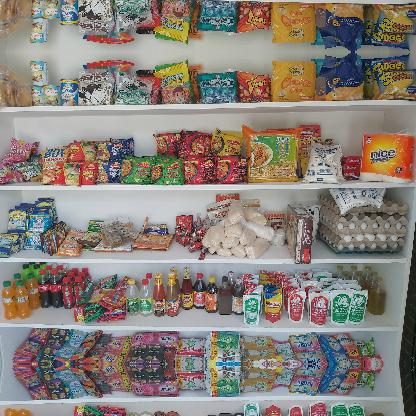Koko-Krunch: (285, 200, 315, 264)
